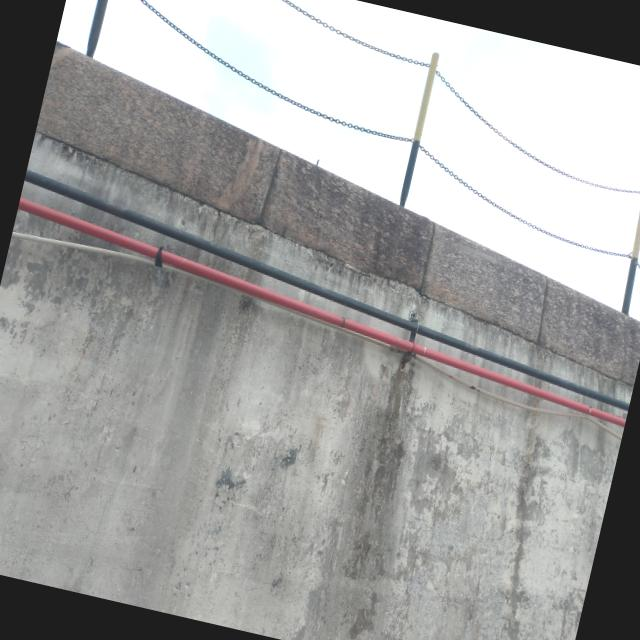gas: (24, 170, 630, 410), (18, 194, 625, 427)
